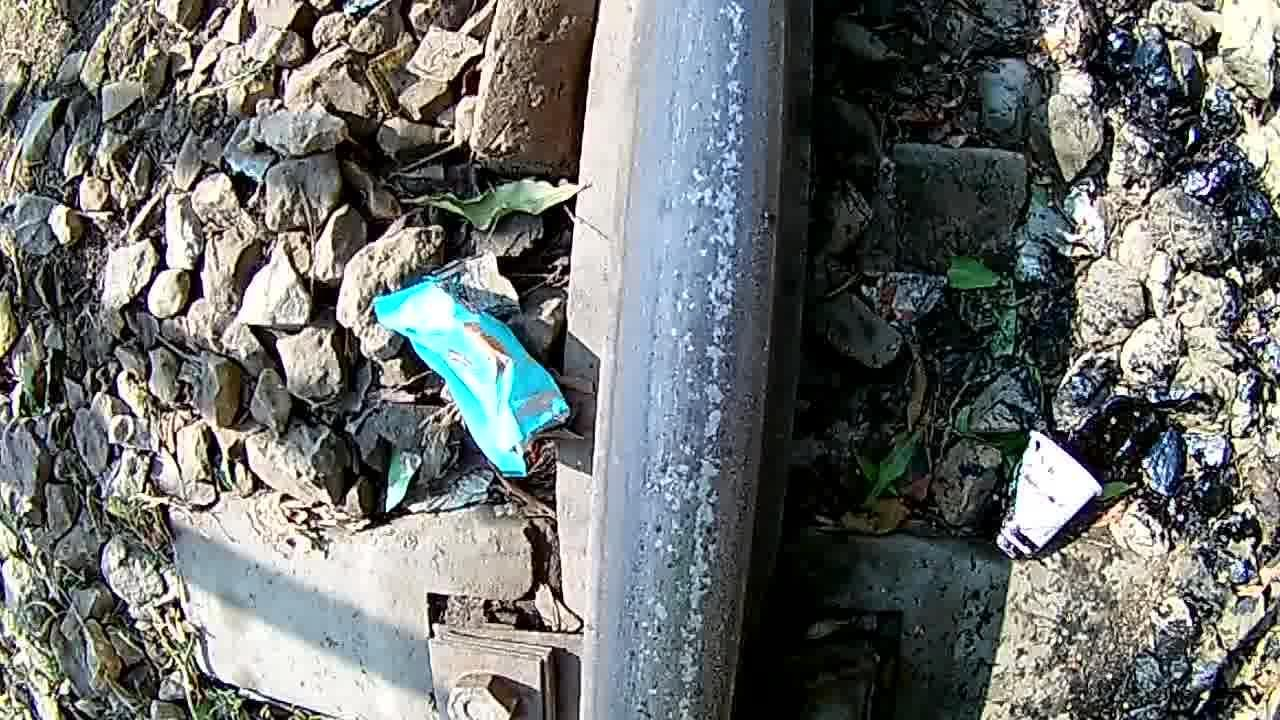crack: (586, 0, 800, 720)
